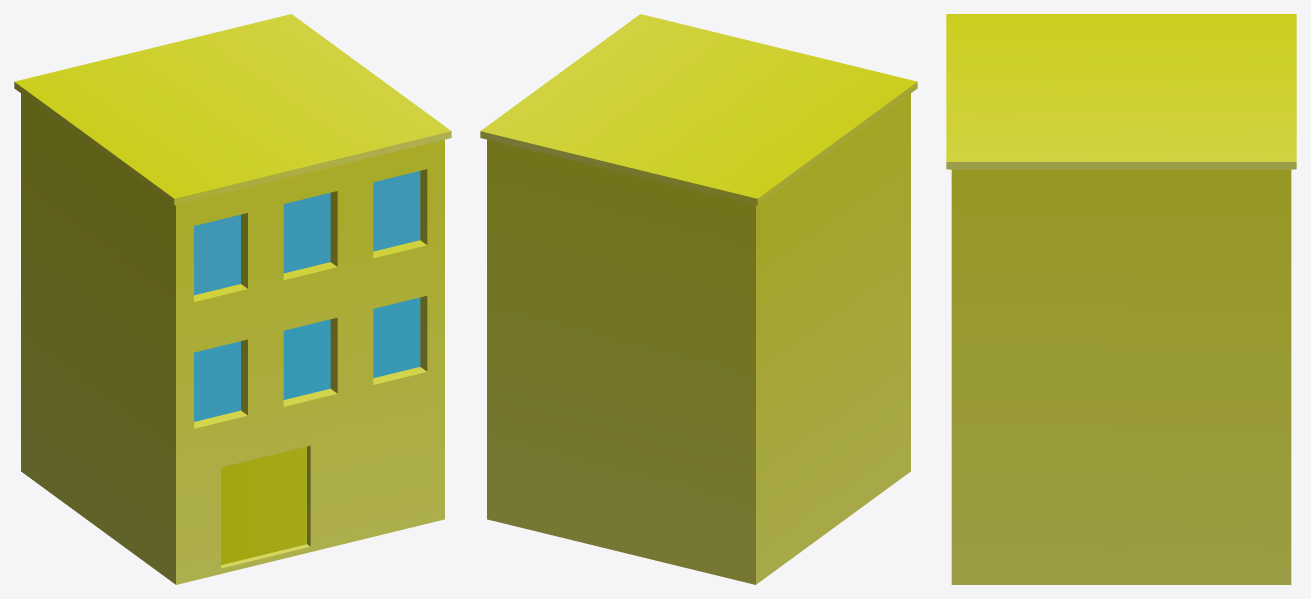
Rendered from SM_casa2.fbx.
3 renders of one model, left to right at view 1: azimuth 30°, elevation 25°; view 2: azimuth 150°, elevation 25°; view 3: azimuth 270°, elevation 25°, orthographic. The views are drawn at different scales.
Parts seen in each view (by area): view 1: SM_basura abajo; view 2: SM_basura abajo; view 3: SM_basura abajo.
Boxes of the visible parts, x1=… form: SM_basura abajo: x1=14, y1=14, x2=451, y2=584; SM_basura abajo: x1=480, y1=14, x2=917, y2=584; SM_basura abajo: x1=946, y1=14, x2=1296, y2=584.
Size of the model in its own units: 692 by 927 by 692.
